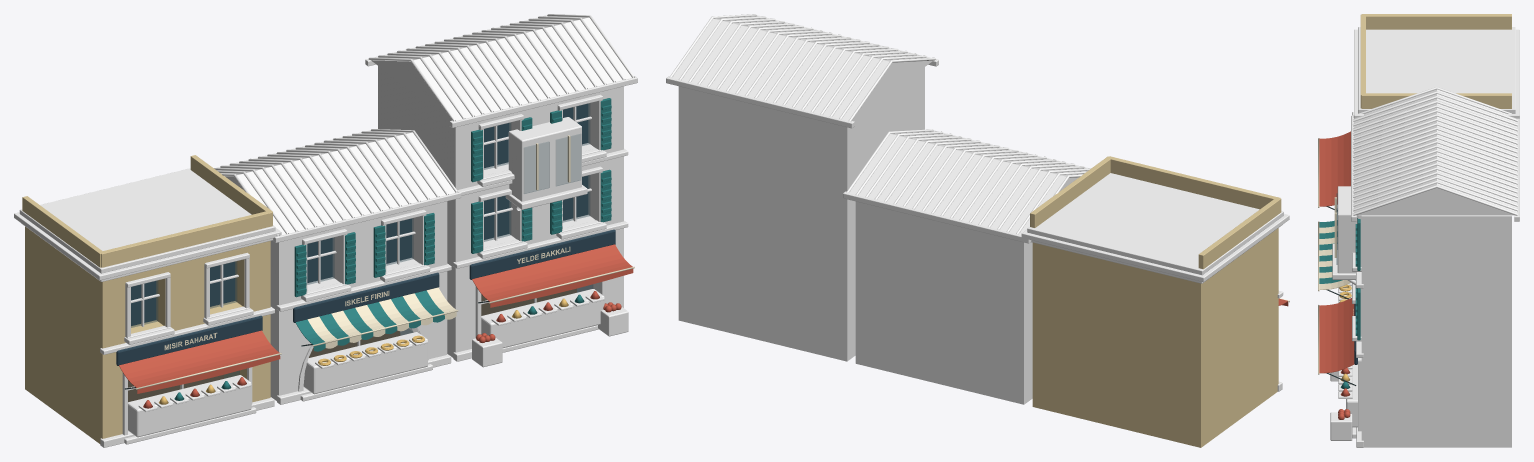
File: DistrictBlock_1_0.glb
3 renders of one model, left to right at view 1: azimuth 30°, elevation 25°; view 2: azimuth 150°, elevation 25°; view 3: azimuth 270°, elevation 25°, orthographic. The views are drawn at different scales.
Parts seen in each view (by area): view 1: RK_DistrictBlock_1_0_LC_Tile, RK_DistrictBlock_1_0_LC_Lime, RK_DistrictBlock_1_0_LC_Ochre, RK_DistrictBlock_1_0_LC_Wood, RK_DistrictBlock_1_0_LC_Coral, RK_DistrictBlock_1_0_LC_Ink, RK_DistrictBlock_1_0_LC_Glass, RK_DistrictBlock_1_0_LC_Red, RK_DistrictBlock_1_0_LC_Cream, RK_DistrictBlock_1_0_LC_Teal, RK_DistrictBlock_1_0_LC_Canvas, RK_DistrictBlock_1_0_LC_Interior (+1 smaller); view 2: RK_DistrictBlock_1_0_LC_Ochre, RK_DistrictBlock_1_0_LC_Coral, RK_DistrictBlock_1_0_LC_Tile, RK_DistrictBlock_1_0_LC_Cream, RK_DistrictBlock_1_0_LC_Lime, RK_DistrictBlock_1_0_LC_Wood; view 3: RK_DistrictBlock_1_0_LC_Coral, RK_DistrictBlock_1_0_LC_Tile, RK_DistrictBlock_1_0_LC_Lime, RK_DistrictBlock_1_0_LC_Red, RK_DistrictBlock_1_0_LC_Ochre, RK_DistrictBlock_1_0_LC_Wood, RK_DistrictBlock_1_0_LC_Teal, RK_DistrictBlock_1_0_LC_Canvas, RK_DistrictBlock_1_0_LC_Gold.
Part boxes in pixels (box(x1,y1,x2,y2)): RK_DistrictBlock_1_0_LC_Tile: box(214, 14, 634, 235); RK_DistrictBlock_1_0_LC_Lime: box(14, 94, 628, 447); RK_DistrictBlock_1_0_LC_Ochre: box(22, 155, 272, 443); RK_DistrictBlock_1_0_LC_Wood: box(128, 15, 637, 437); RK_DistrictBlock_1_0_LC_Coral: box(378, 66, 623, 357); RK_DistrictBlock_1_0_LC_Ink: box(116, 103, 615, 365); RK_DistrictBlock_1_0_LC_Glass: box(128, 103, 592, 401); RK_DistrictBlock_1_0_LC_Red: box(119, 244, 633, 408); RK_DistrictBlock_1_0_LC_Cream: box(270, 201, 447, 400); RK_DistrictBlock_1_0_LC_Teal: box(174, 98, 611, 400); RK_DistrictBlock_1_0_LC_Canvas: box(135, 135, 634, 389); RK_DistrictBlock_1_0_LC_Interior: box(128, 288, 576, 401); RK_DistrictBlock_1_0_LC_Ochre: box(1030, 156, 1281, 447); RK_DistrictBlock_1_0_LC_Coral: box(678, 67, 924, 361); RK_DistrictBlock_1_0_LC_Tile: box(669, 14, 1090, 235); RK_DistrictBlock_1_0_LC_Cream: box(855, 201, 1032, 404); RK_DistrictBlock_1_0_LC_Lime: box(1021, 173, 1289, 391); RK_DistrictBlock_1_0_LC_Wood: box(666, 15, 1088, 243); RK_DistrictBlock_1_0_LC_Coral: box(1361, 215, 1511, 447); RK_DistrictBlock_1_0_LC_Tile: box(1352, 87, 1517, 215); RK_DistrictBlock_1_0_LC_Lime: box(1332, 27, 1519, 447); RK_DistrictBlock_1_0_LC_Red: box(1319, 131, 1354, 419); RK_DistrictBlock_1_0_LC_Ochre: box(1360, 14, 1511, 108); RK_DistrictBlock_1_0_LC_Wood: box(1330, 115, 1519, 440); RK_DistrictBlock_1_0_LC_Teal: box(1319, 218, 1360, 388); RK_DistrictBlock_1_0_LC_Canvas: box(1318, 138, 1353, 374); RK_DistrictBlock_1_0_LC_Gold: box(1339, 284, 1351, 381).
Bounding box in the file's own units: 19.17 × 9.33 × 6.44.
